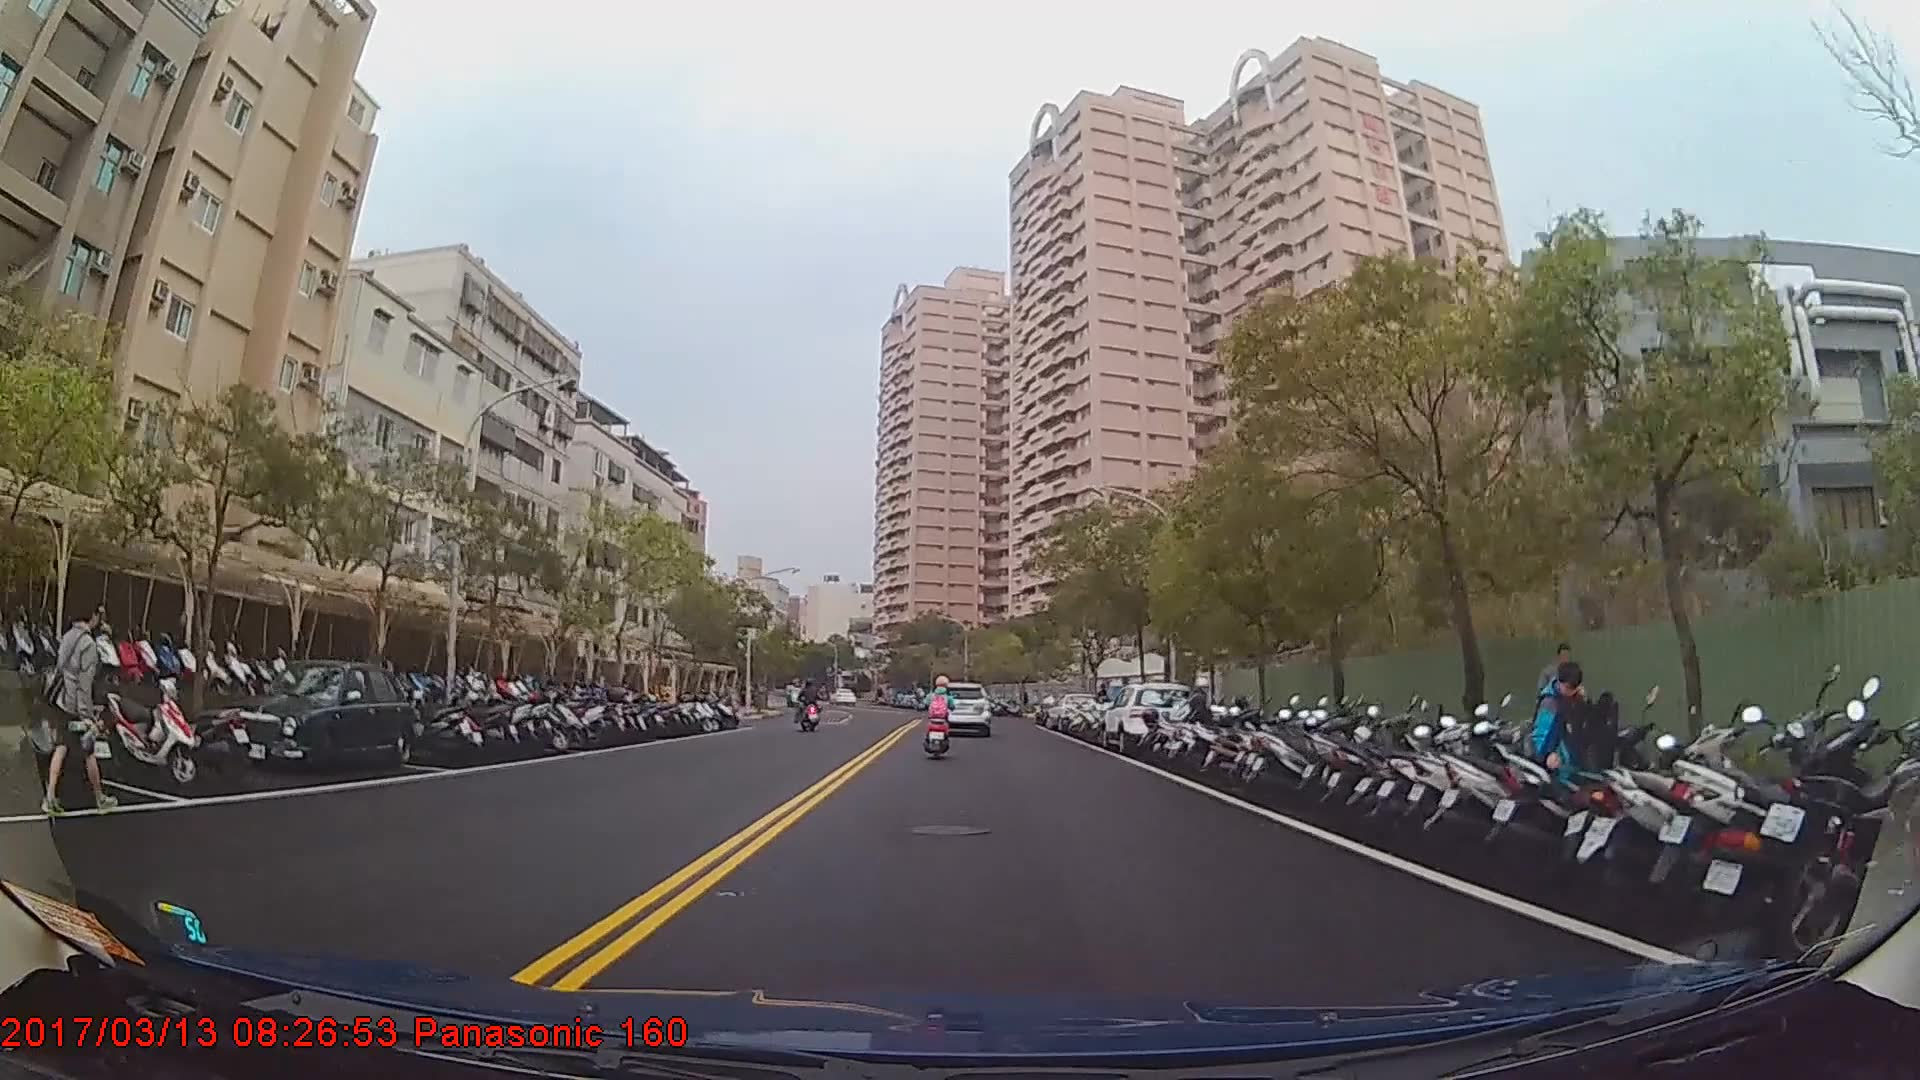pedestrian: (41, 594, 121, 820), (1527, 664, 1614, 863), (1537, 642, 1594, 773)
rider: (923, 671, 959, 758), (798, 676, 824, 732)
vehicle: (232, 658, 413, 778), (1100, 682, 1197, 755), (932, 683, 990, 736)
